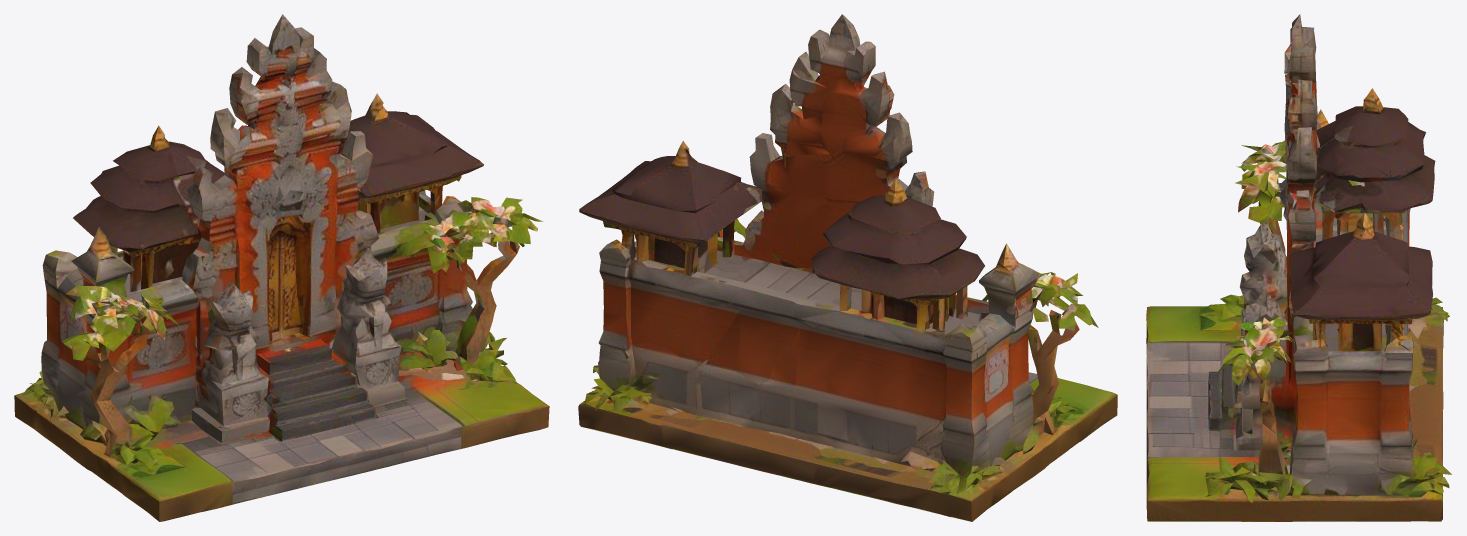
Rendered from ubud-palace.glb.
3 views of the same model, side by side, from view 1: azimuth 30°, elevation 25°; view 2: azimuth 150°, elevation 25°; view 3: azimuth 270°, elevation 25° (orthographic).
Parts seen in each view (by area): view 1: logan-textured.obj; view 2: logan-textured.obj; view 3: logan-textured.obj.
Boxes of the visible parts, x1,y1,x2,y2 form: logan-textured.obj: (14,14,549,521); logan-textured.obj: (578,14,1117,521); logan-textured.obj: (1146,14,1451,521).
Bounding box in the file's own units: 1 × 0.8418 × 0.5643.
Materials: 1 (1 with a texture image).
